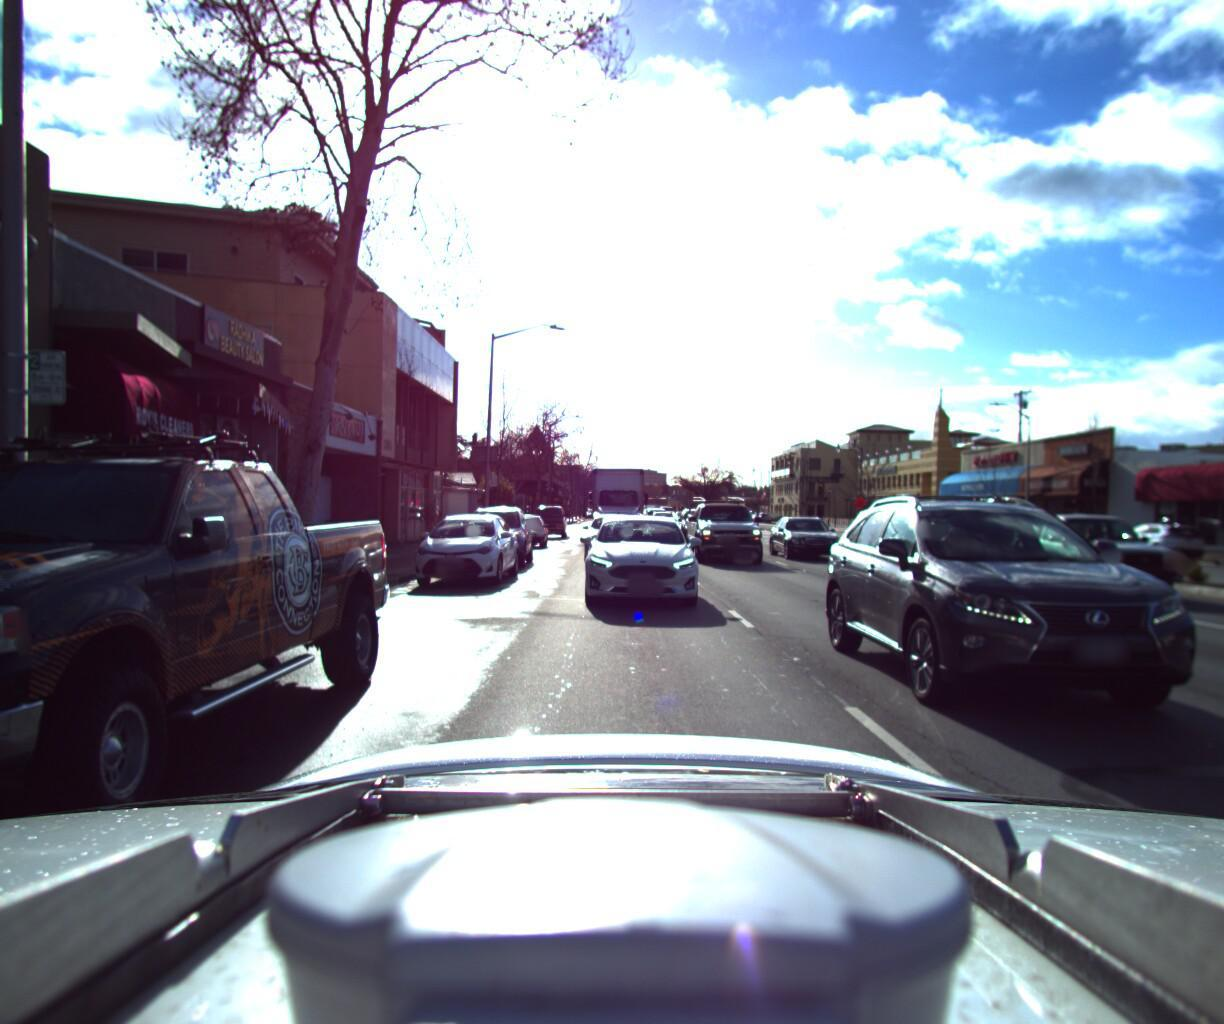car: (821, 476, 1224, 777), (1000, 502, 1224, 603), (574, 507, 720, 621), (405, 504, 524, 589), (681, 487, 773, 565), (450, 498, 538, 565), (1109, 513, 1216, 556), (762, 508, 853, 558), (580, 507, 648, 564), (499, 507, 551, 543), (526, 497, 571, 534)
truck: (586, 457, 653, 538)
